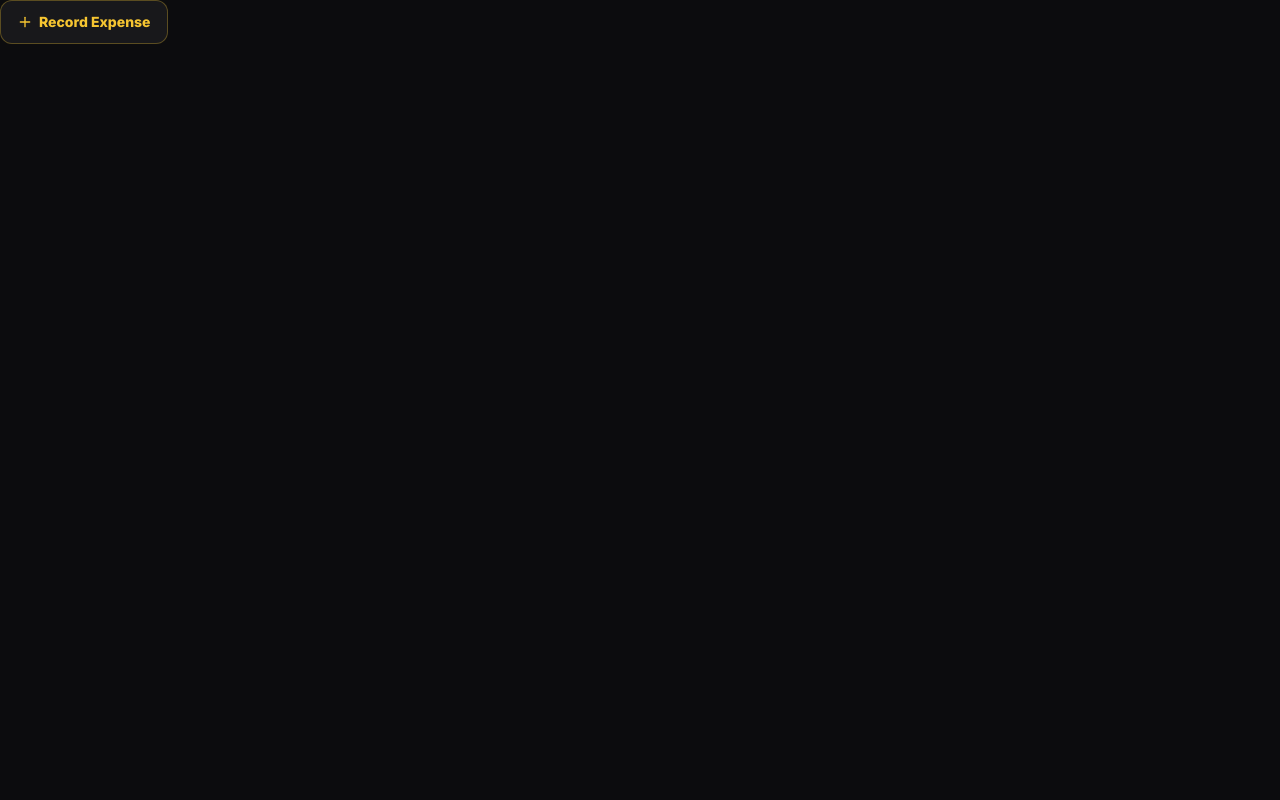
Test case: a worker's Record Expense › offers only the categories a worker spends on
Step 1. Click the button "Record Expense" → click(84, 22), box top-left (0, 0), bottom-right (168, 44)
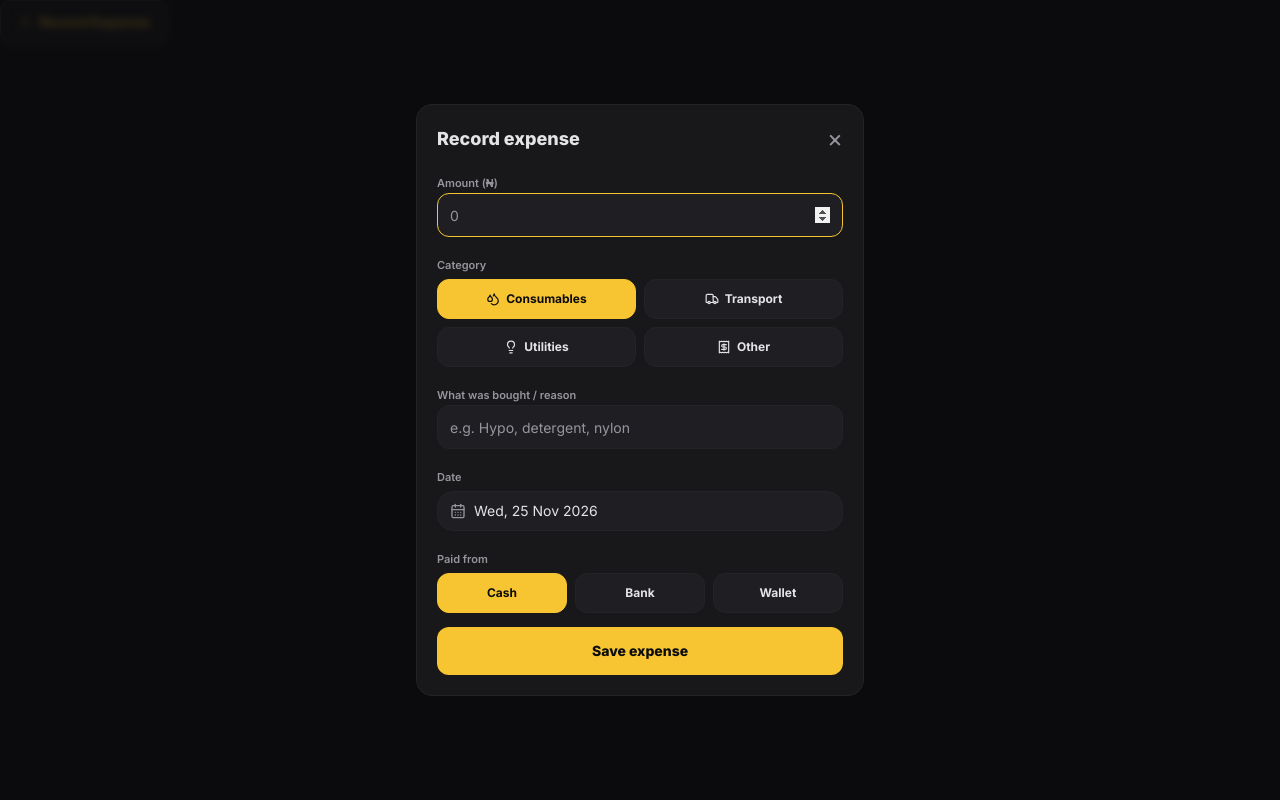
expect the button "Consumables" is shown: met, box top-left (437, 279), bottom-right (636, 319)
expect the button "Transport" is shown: met, box top-left (644, 279), bottom-right (843, 319)
expect the button "Utilities" is shown: met, box top-left (437, 327), bottom-right (636, 367)
